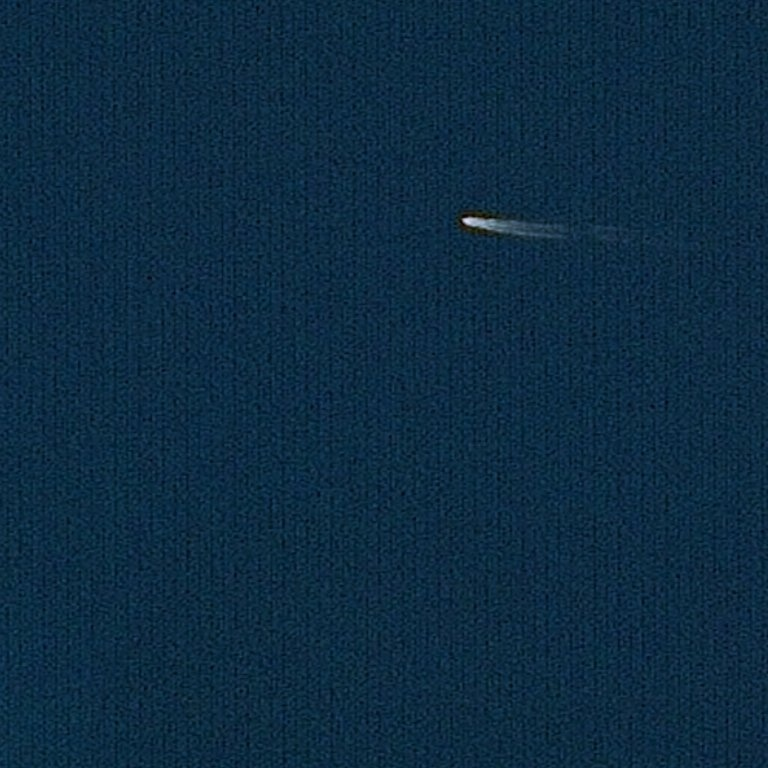ship: (461, 212, 476, 227)
